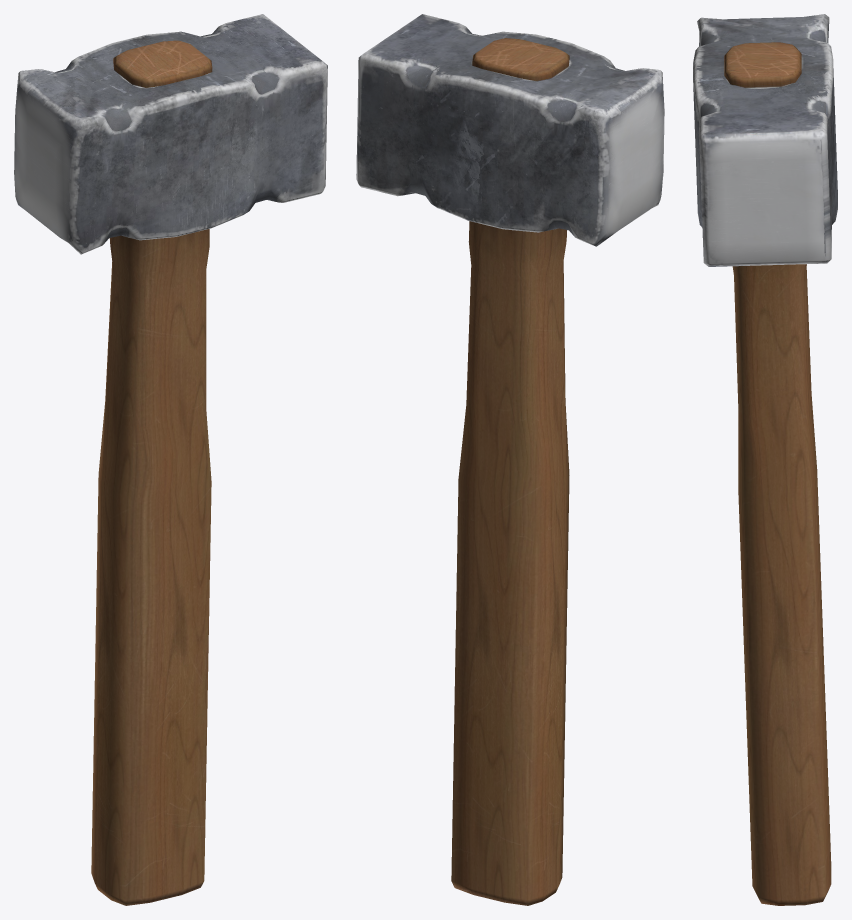
The model's file is UT2_Vhammer.fbx.
3 views of the same model, side by side, from view 1: azimuth 30°, elevation 25°; view 2: azimuth 150°, elevation 25°; view 3: azimuth 270°, elevation 25° (orthographic).
Visible parts, largest first — view 1: BlacksmithHammer01.l, BlacksmithHammer01.l.001; view 2: BlacksmithHammer01.l, BlacksmithHammer01.l.001; view 3: BlacksmithHammer01.l, BlacksmithHammer01.l.001.
Boxes of the visible parts, <box> form: BlacksmithHammer01.l: <box>91,40,212,905</box>; BlacksmithHammer01.l.001: <box>14,14,327,254</box>; BlacksmithHammer01.l: <box>451,38,569,905</box>; BlacksmithHammer01.l.001: <box>356,14,664,246</box>; BlacksmithHammer01.l: <box>724,42,831,905</box>; BlacksmithHammer01.l.001: <box>693,14,837,266</box>.
Bounding box in the file's own units: 0.1109 × 0.3478 × 0.055.
1 material, 1 textured.
